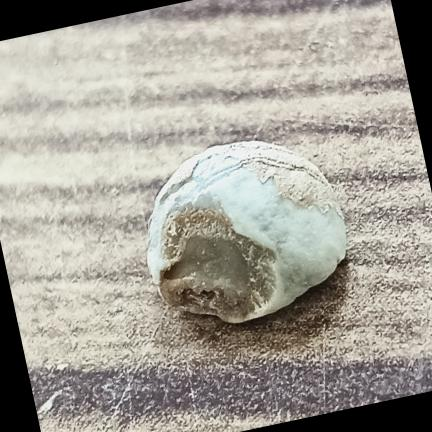cut: (148, 141, 346, 322)
